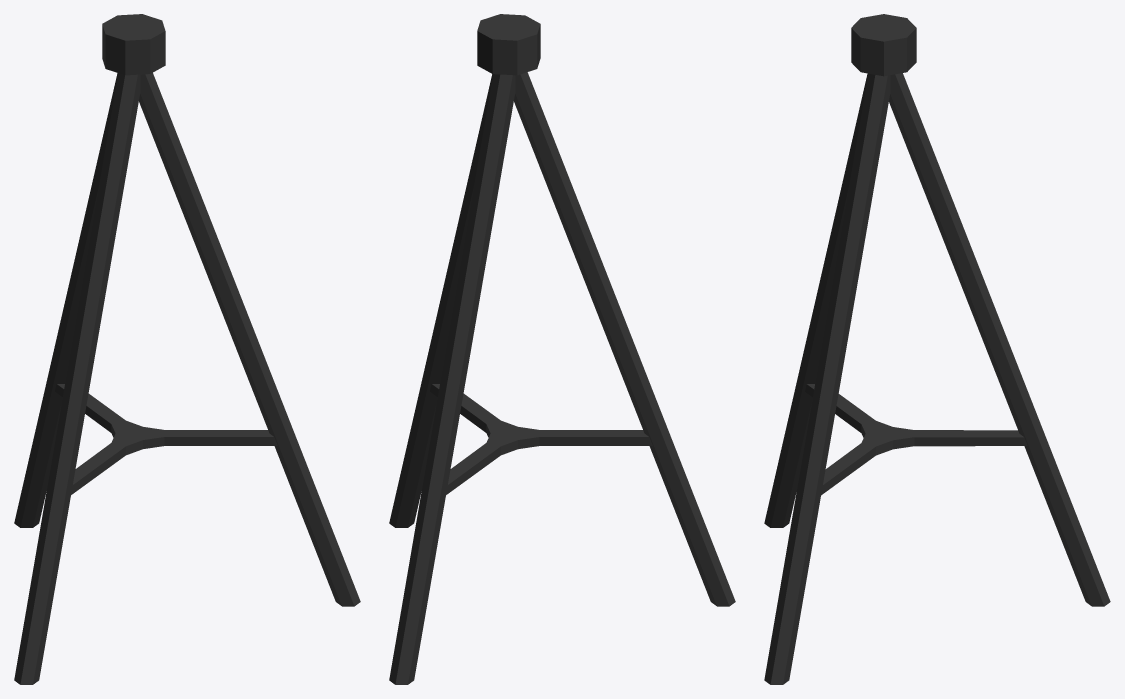
File: Tripod_Support_Base_1.obj
3 views of the same model, side by side, from view 1: azimuth 30°, elevation 25°; view 2: azimuth 150°, elevation 25°; view 3: azimuth 270°, elevation 25° (orthographic).
Visible parts, largest first — view 1: Tripod_Support_Base_1; view 2: Tripod_Support_Base_1; view 3: Tripod_Support_Base_1.
Boxes of the visible parts, x1,y1,x2,y2 form: Tripod_Support_Base_1: (14,14,360,684); Tripod_Support_Base_1: (389,14,735,684); Tripod_Support_Base_1: (764,14,1110,684).
Size of the model in its own units: 0.4344 by 0.7006 by 0.3831.
